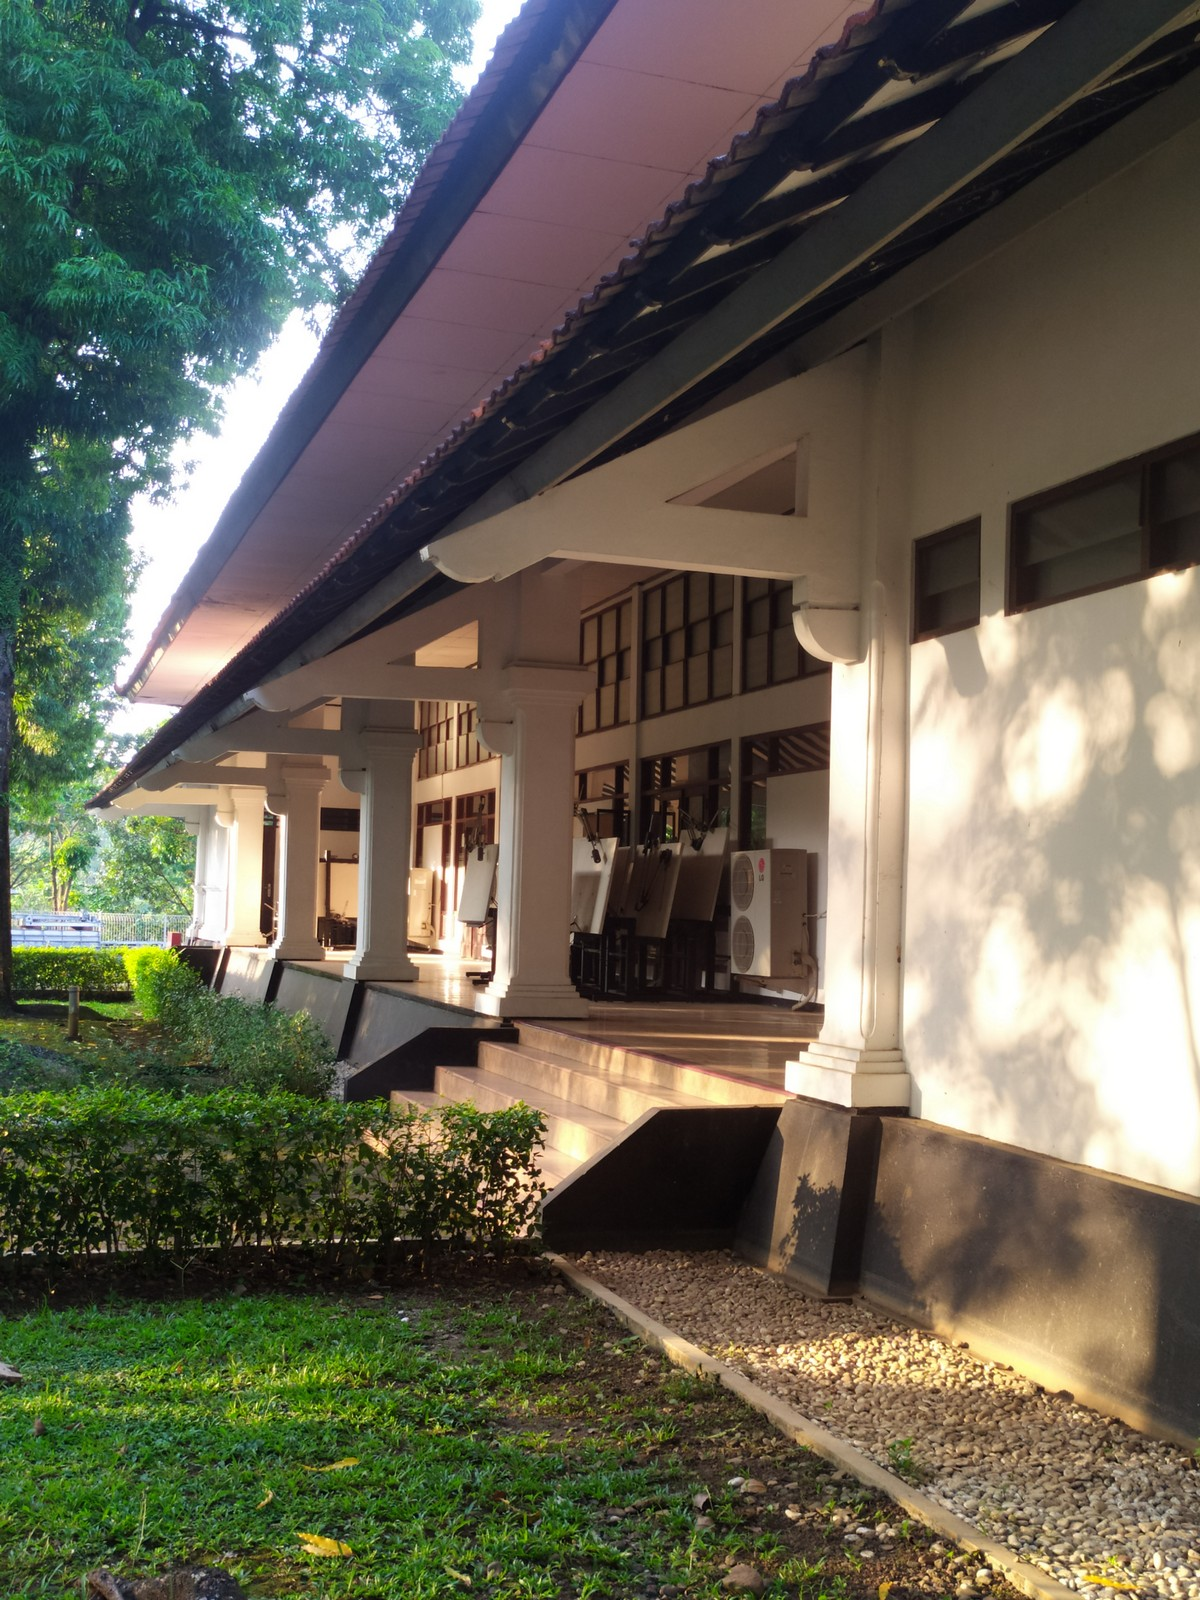concrete column: (817, 610, 918, 1107), (487, 698, 584, 991), (354, 741, 410, 963), (274, 794, 318, 957)
